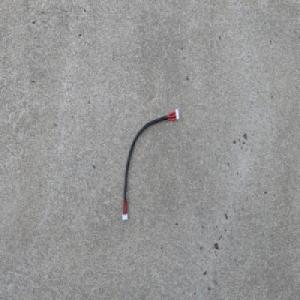Wire: (120, 106, 180, 223)
